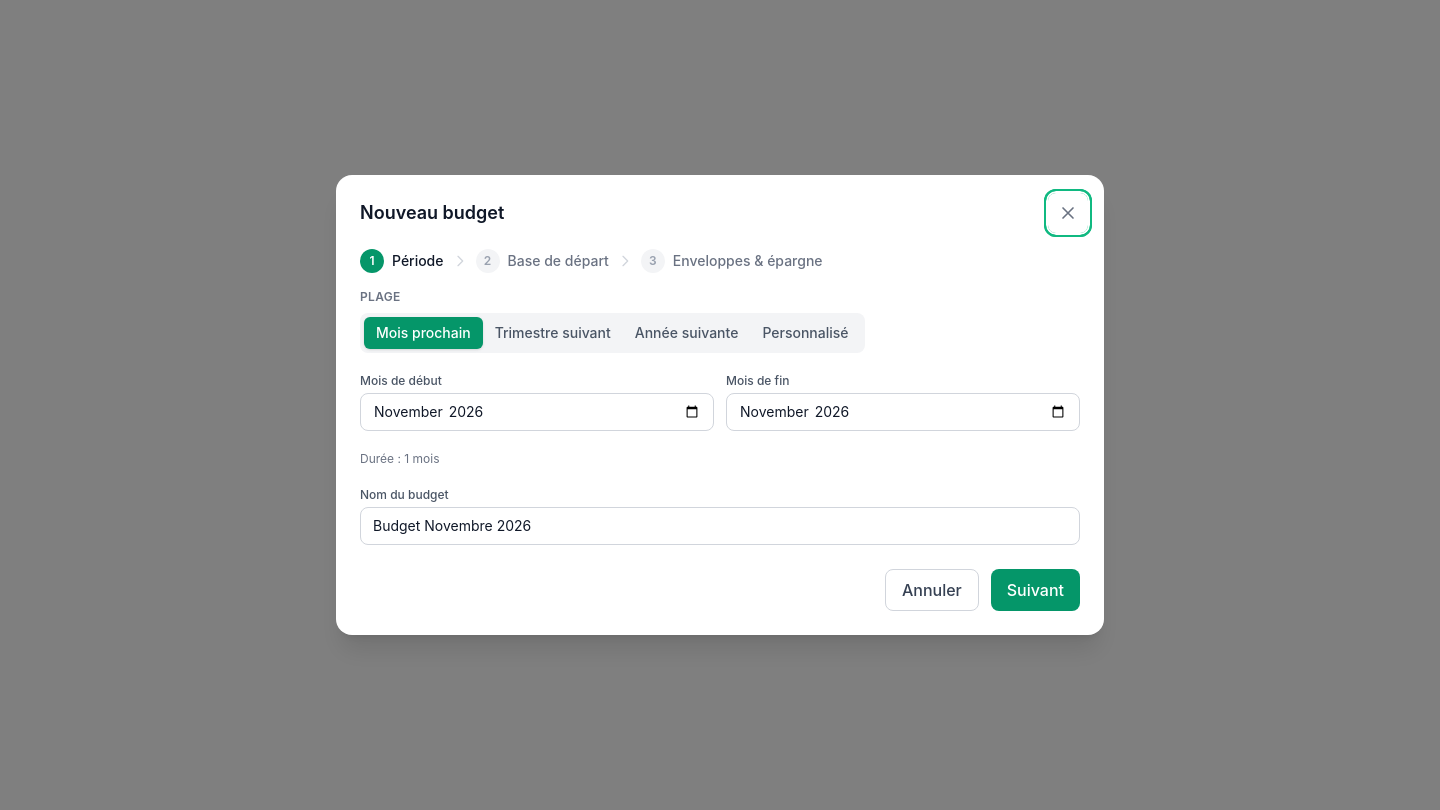
Test case: NewBudgetPlanModal › shows the "en attente" badge but no "reçus" badge when only pending reimbursements exist
Click the button with test id "next-step-button" at coordinates (1035, 590), box [991,569,1080,611]
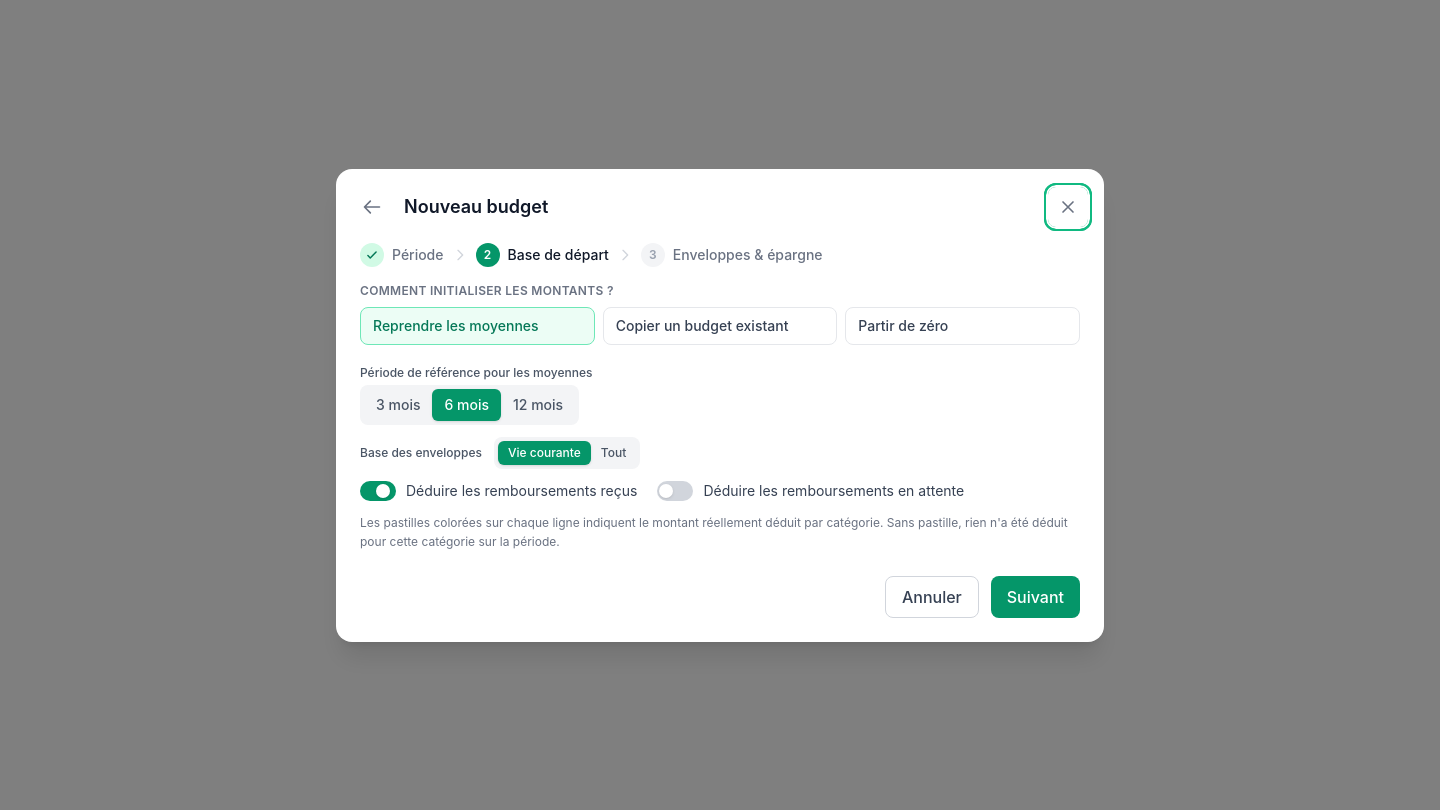
Click the button with test id "next-step-button" at coordinates (1035, 596), box [991,576,1080,618]
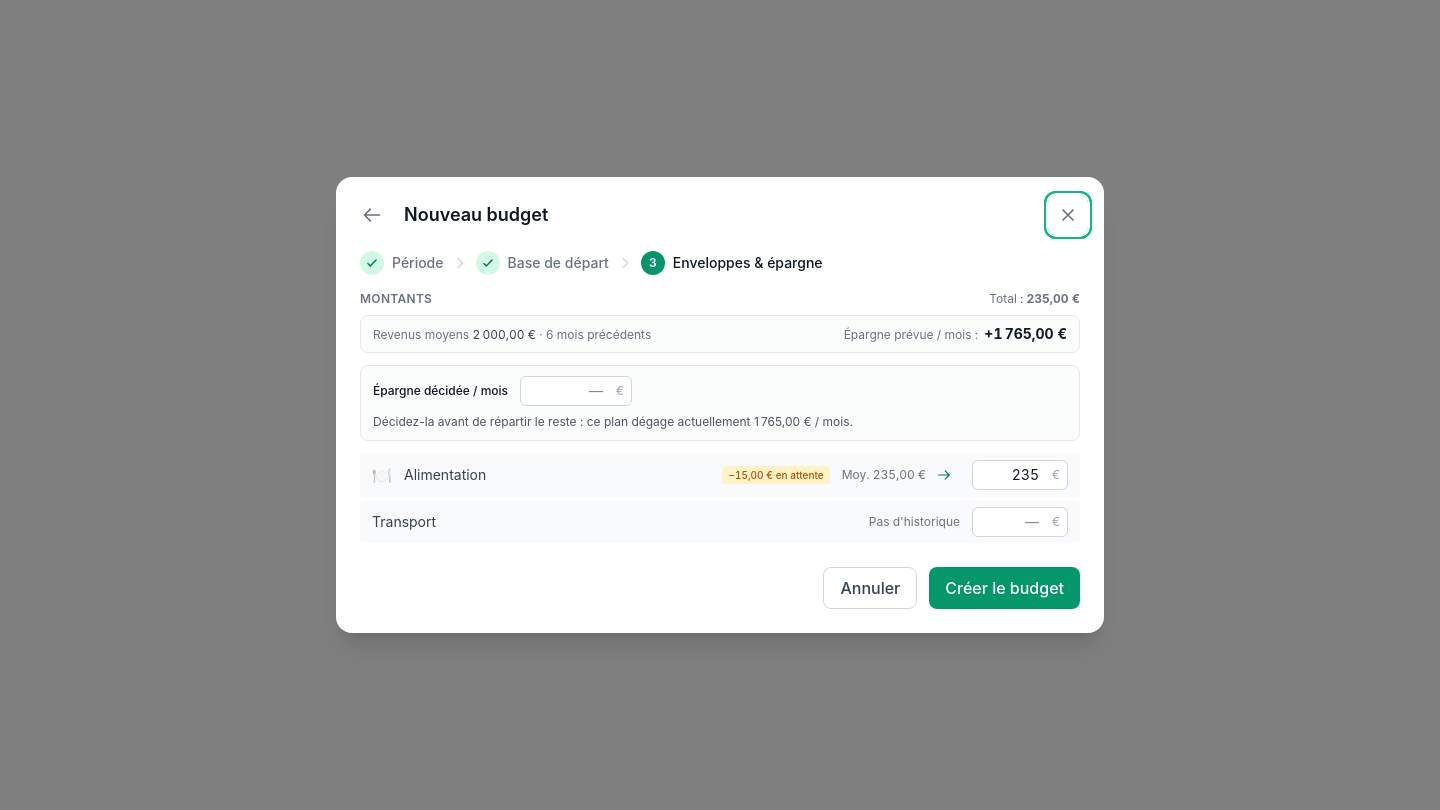
Check: the text with test id "preview-pending-Alimentation" shows "15", box [728,469,824,481]
